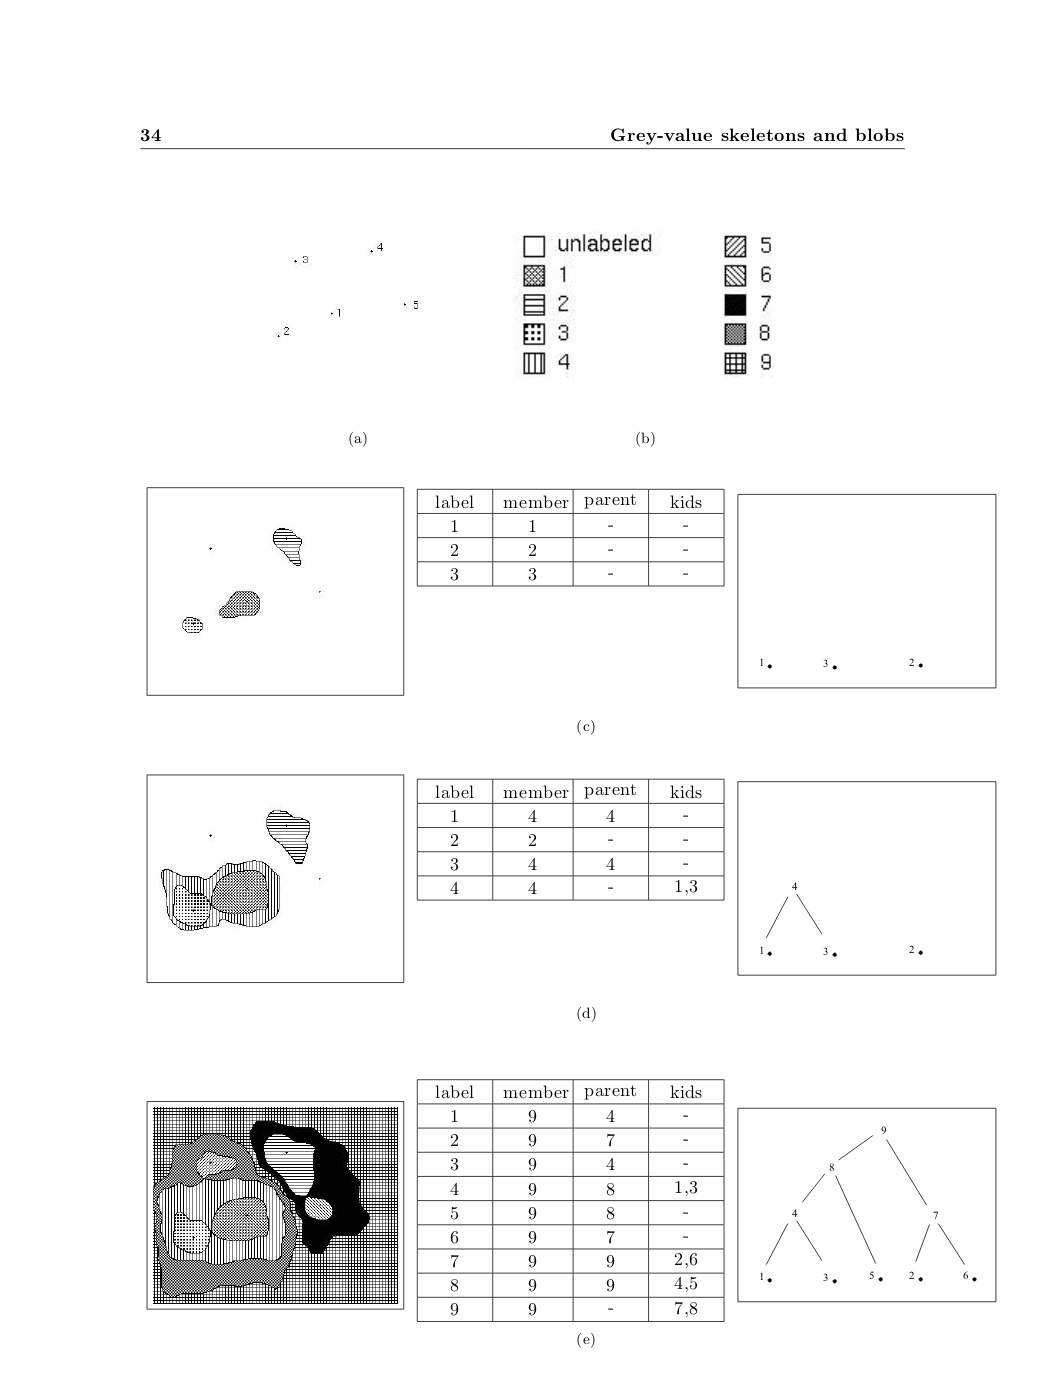Table: (416, 1078, 724, 1322), (416, 777, 724, 900), (416, 487, 724, 587)
figure: (276, 233, 771, 376), (146, 485, 403, 697), (146, 772, 403, 983), (146, 1100, 403, 1309), (737, 491, 996, 689), (737, 1106, 996, 1303), (737, 780, 996, 976)
